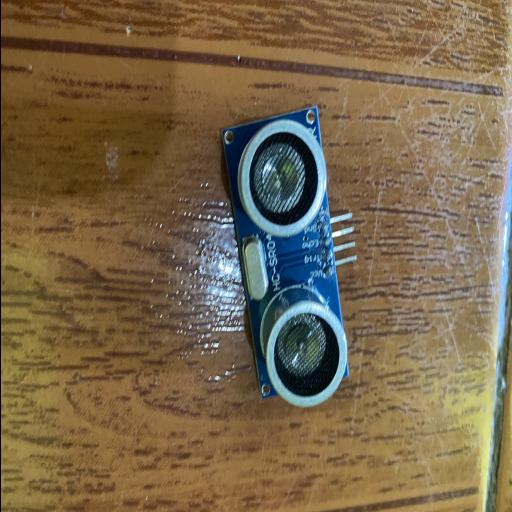Ultrasonic Sensor: (219, 104, 357, 408)
